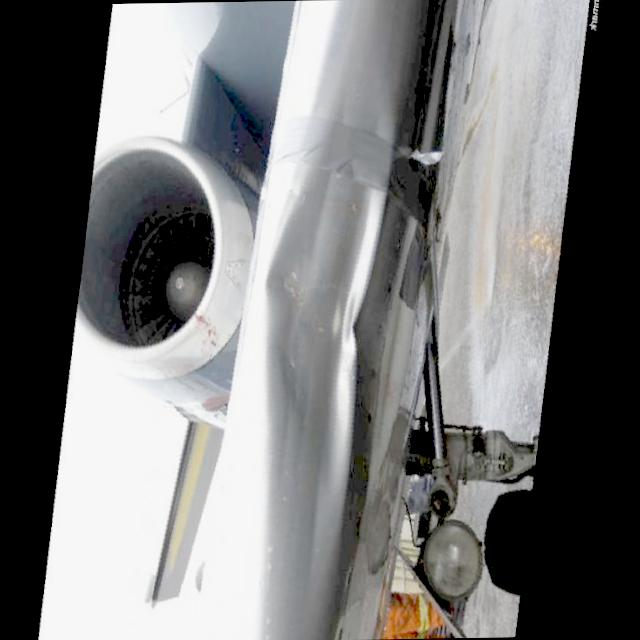dent: (257, 102, 403, 622)
